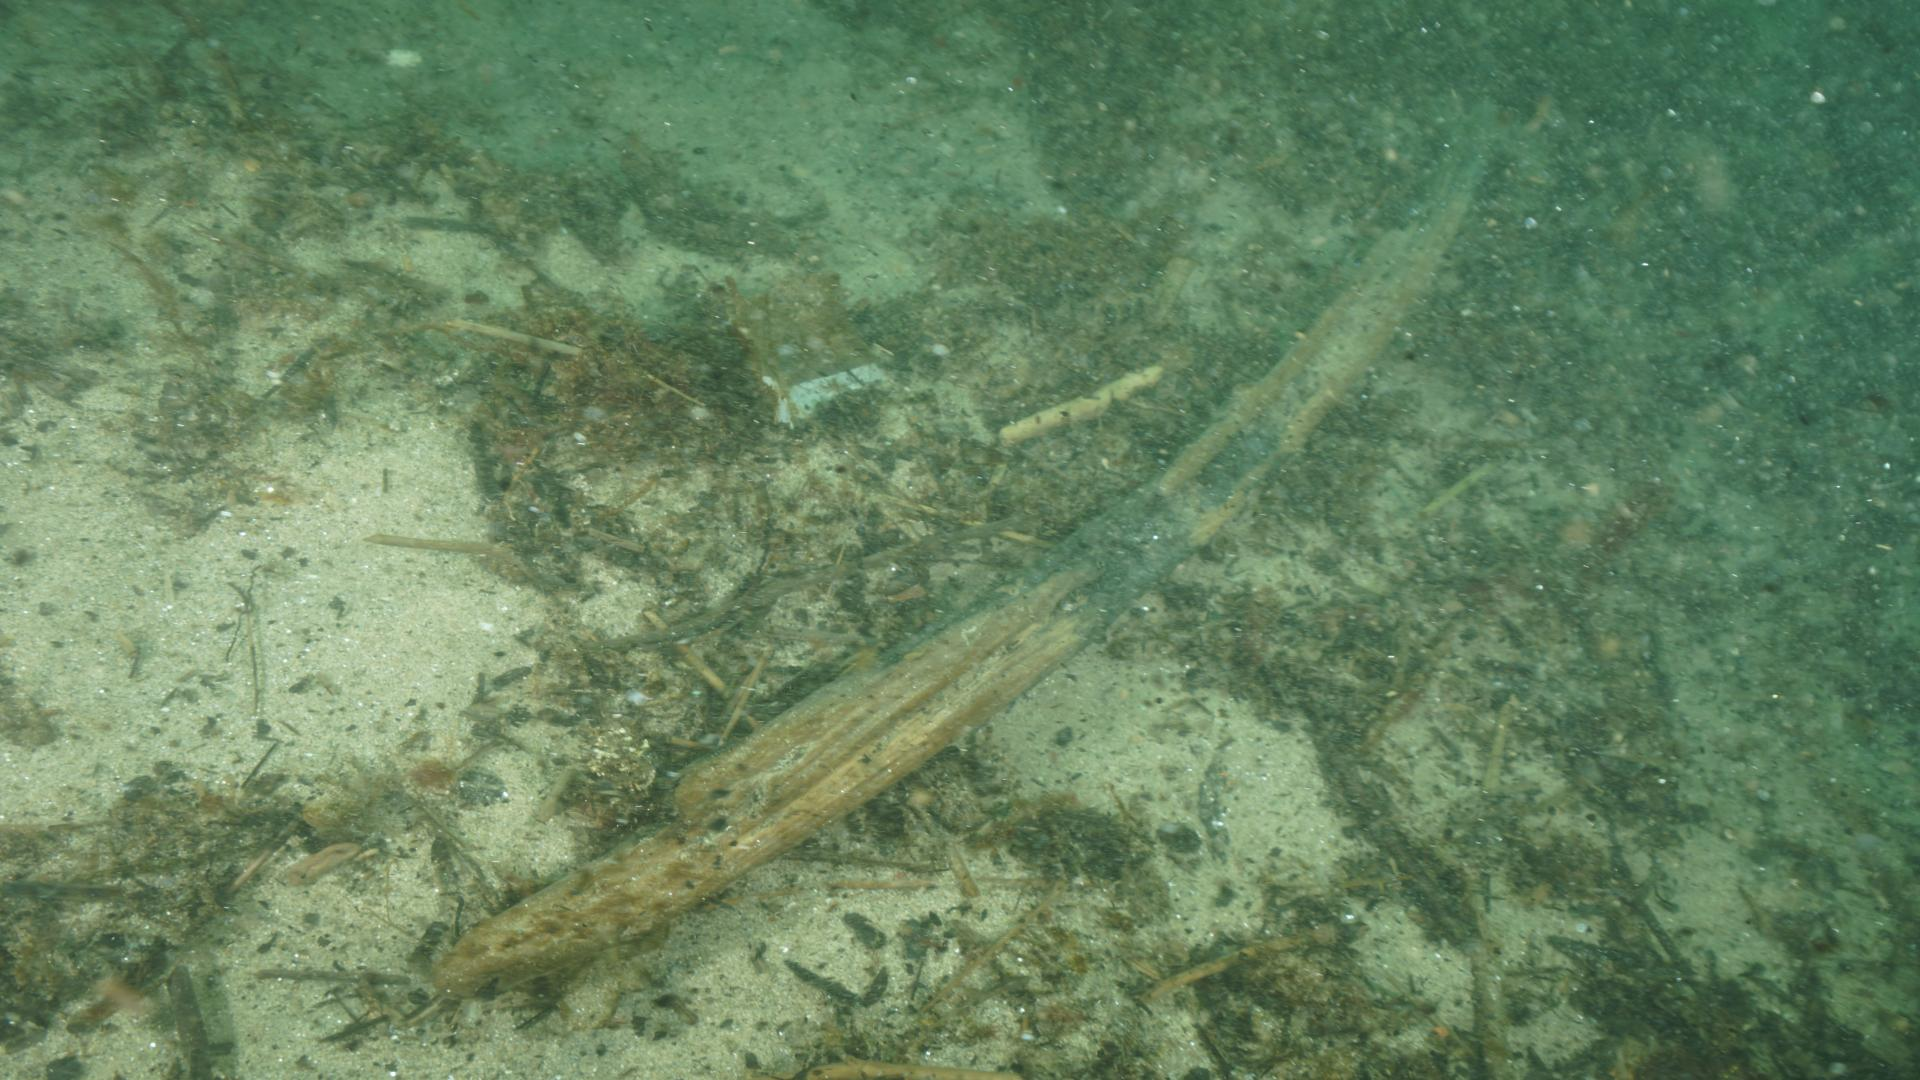wood: (425, 94, 1505, 994)
